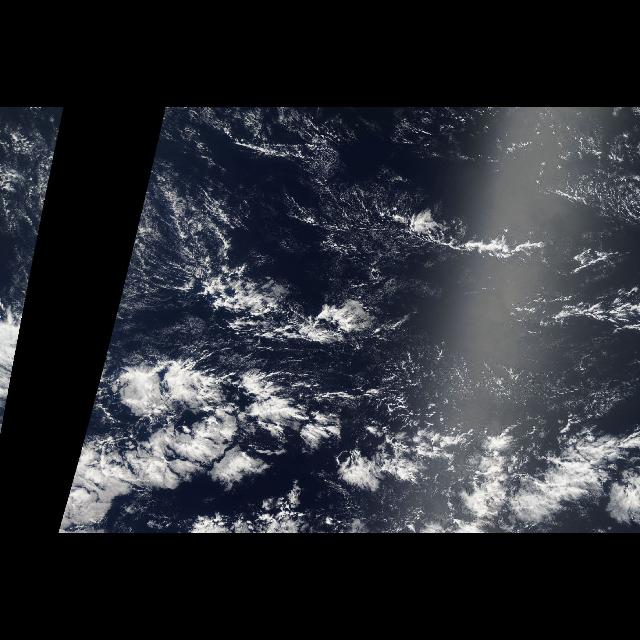Fish: (59, 359, 397, 527)
Flower: (114, 360, 382, 496)
Gravel: (196, 218, 404, 344)
Sugar: (112, 109, 470, 348), (374, 334, 636, 422)
